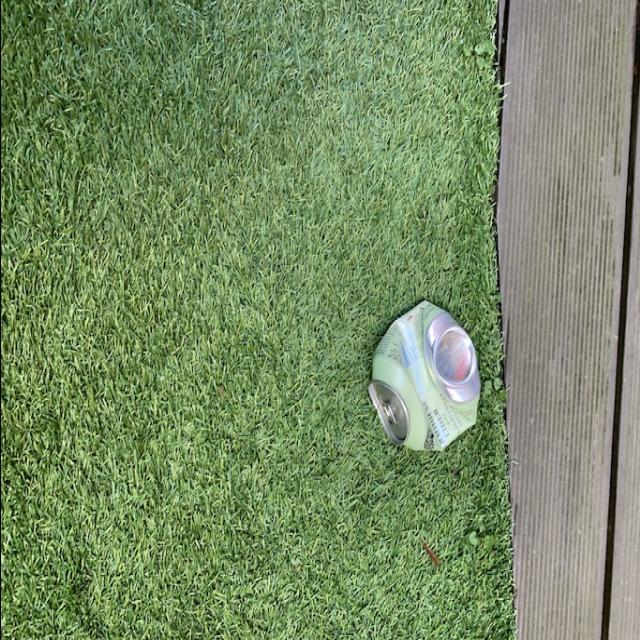Aluminum Can: (362, 302, 483, 458)
